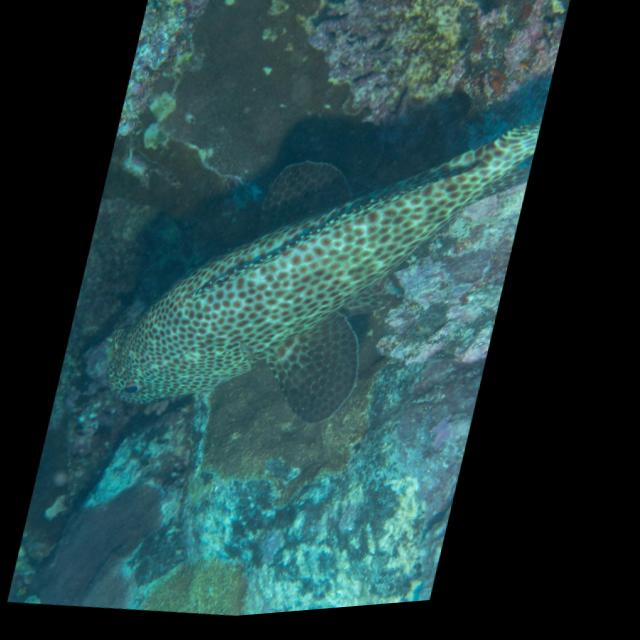Groupers: (90, 47, 551, 461)
